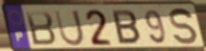2: (84, 8, 114, 47)
9: (144, 9, 167, 45)
B: (24, 10, 58, 47), (111, 9, 143, 46)
S: (168, 7, 199, 47)
U: (52, 9, 86, 47)
